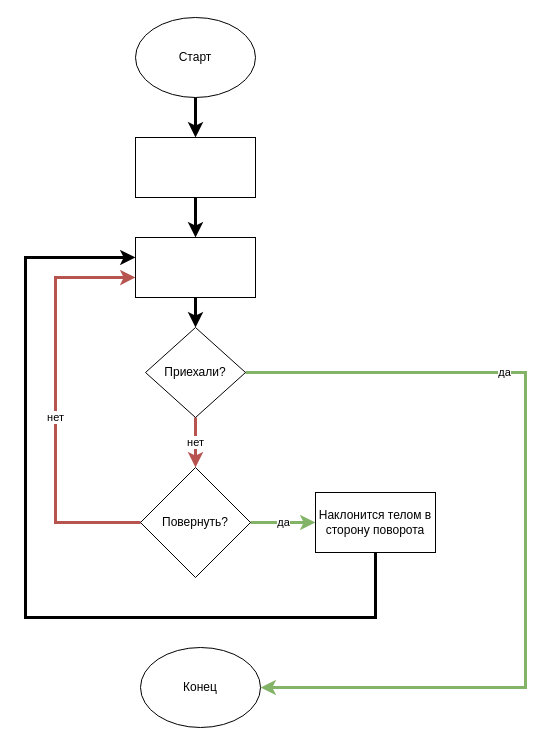
Some shapes in this 552 by 745 pixel diagram are drawn without their labels. Each missing label, with the centre of its shape:
"Второй оттолкнуться, и ехать" goes at point (195, 267).
"Поставить ведущую ногу на скейт" goes at point (195, 167).
